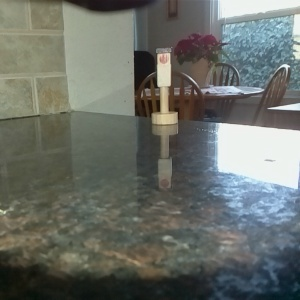traffic light red: (148, 44, 179, 126)
